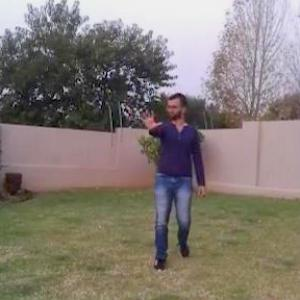follow_hand: (136, 106, 162, 132)
